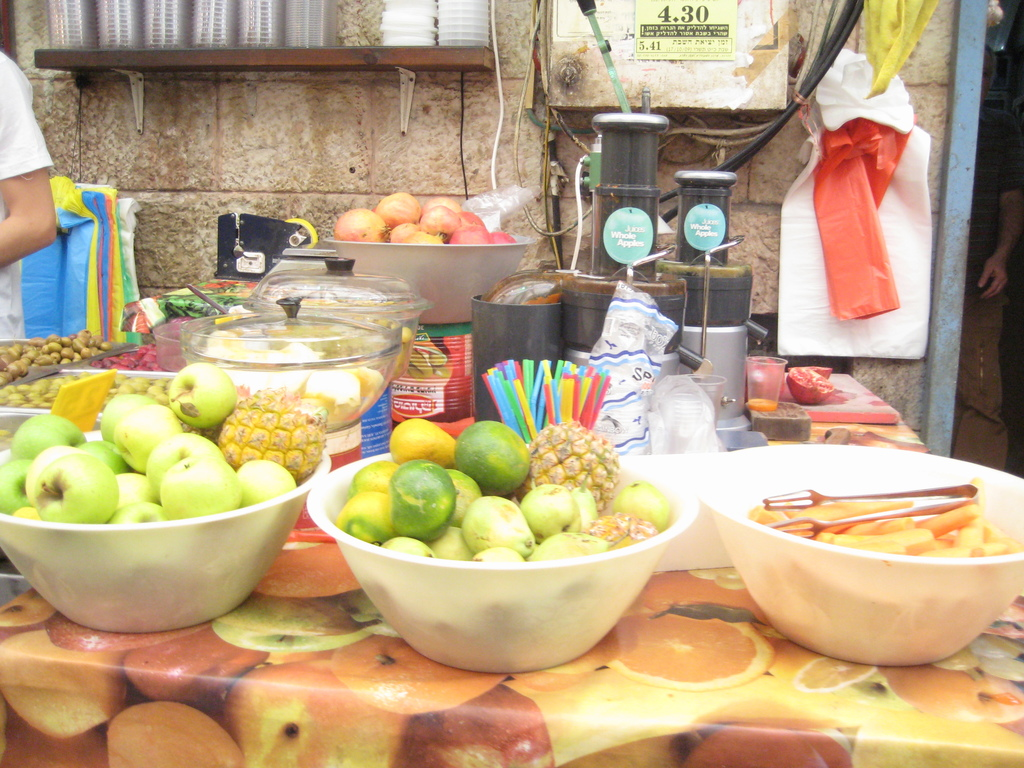Apple: (0, 361, 297, 521), (371, 188, 418, 227)
